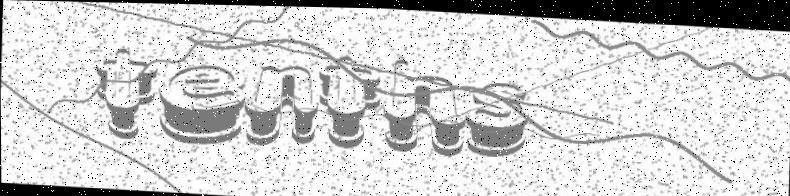e: (157, 56, 244, 143)
h: (381, 55, 467, 161)
n: (244, 60, 323, 151)
s: (462, 78, 537, 158)
t: (89, 35, 161, 138), (315, 49, 384, 150)
